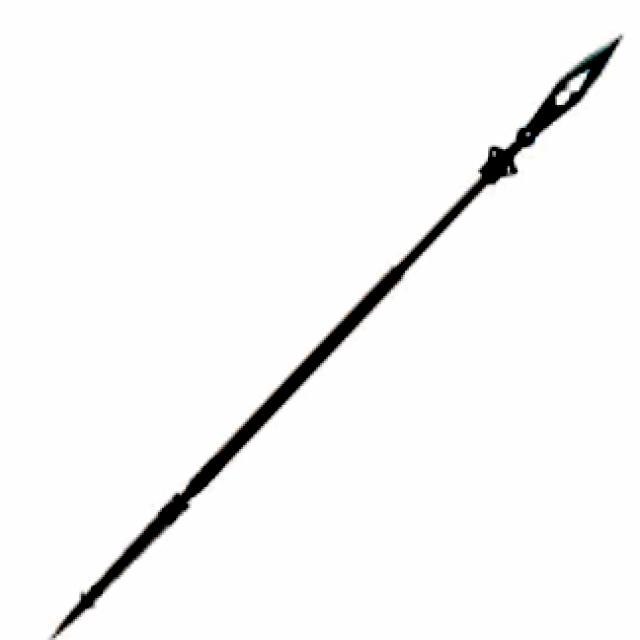spear: (26, 13, 628, 639)
